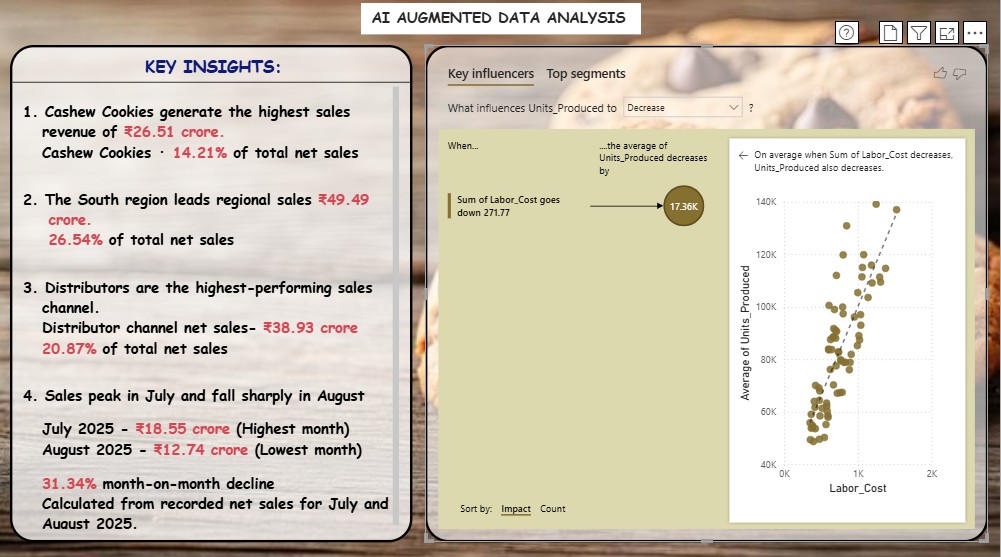

Layout of this report page (visuals, bound fields, positions):
{"tool":"powerbi","page":{"name":"AI Analysis","canvas":[1280,720],"ordinal":6},"visuals":[{"type":"keyDriversVisual","fields":{"Target":["Biscuit_Manufacturing_1000_Records.Units_Produced"],"ExplainBy":["Sum(Biscuit_Manufacturing_1000_Records.Labor_Cost)"]},"box":[546.9,62.5,717.8,633.6],"z":0},{"type":"textbox","title":"KEY INSIGHTS: ","box":[17.8,62.5,512.5,633.6],"z":1000},{"type":"textbox","box":[465.3,8.9,357,39.5],"z":2000}]}

Visuals, with their boxes in screenshot pixels (x1, y1, x2, y2), scaled from the page's 1280x720 canvas onto the 1001x557 screenshot:
keyDriversVisual - Biscuit_Manufacturing_1000_Records.Units_Produced x Sum(Biscuit_Manufacturing_1000_Records.Labor_Cost): (428, 48, 989, 539)
"KEY INSIGHTS: " textbox: (14, 48, 415, 539)
textbox: (364, 7, 643, 37)
